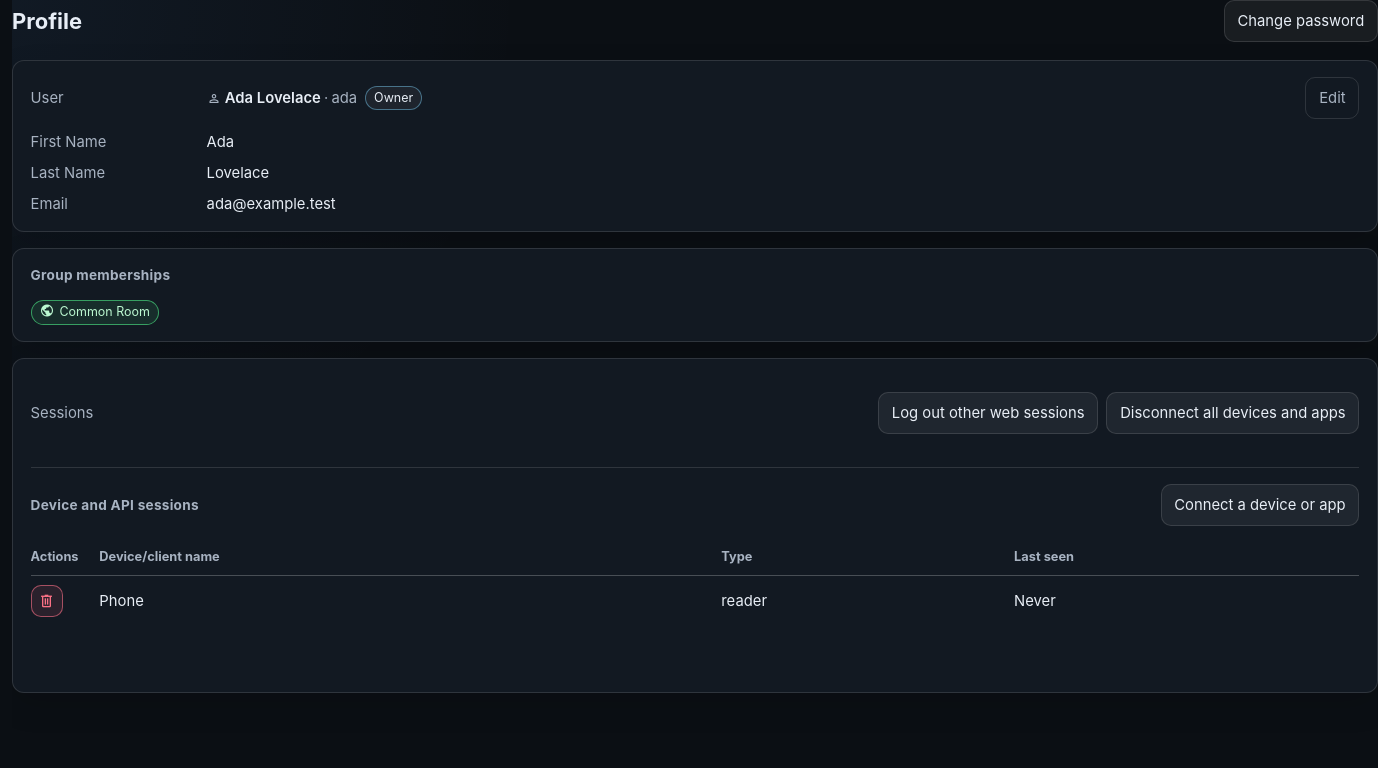
ProfileOrchestrator account sessions › leaves a device visible when its revoke request fails
Click the button named "Revoke Phone". click: (47,601)
box: [31, 585, 63, 617]
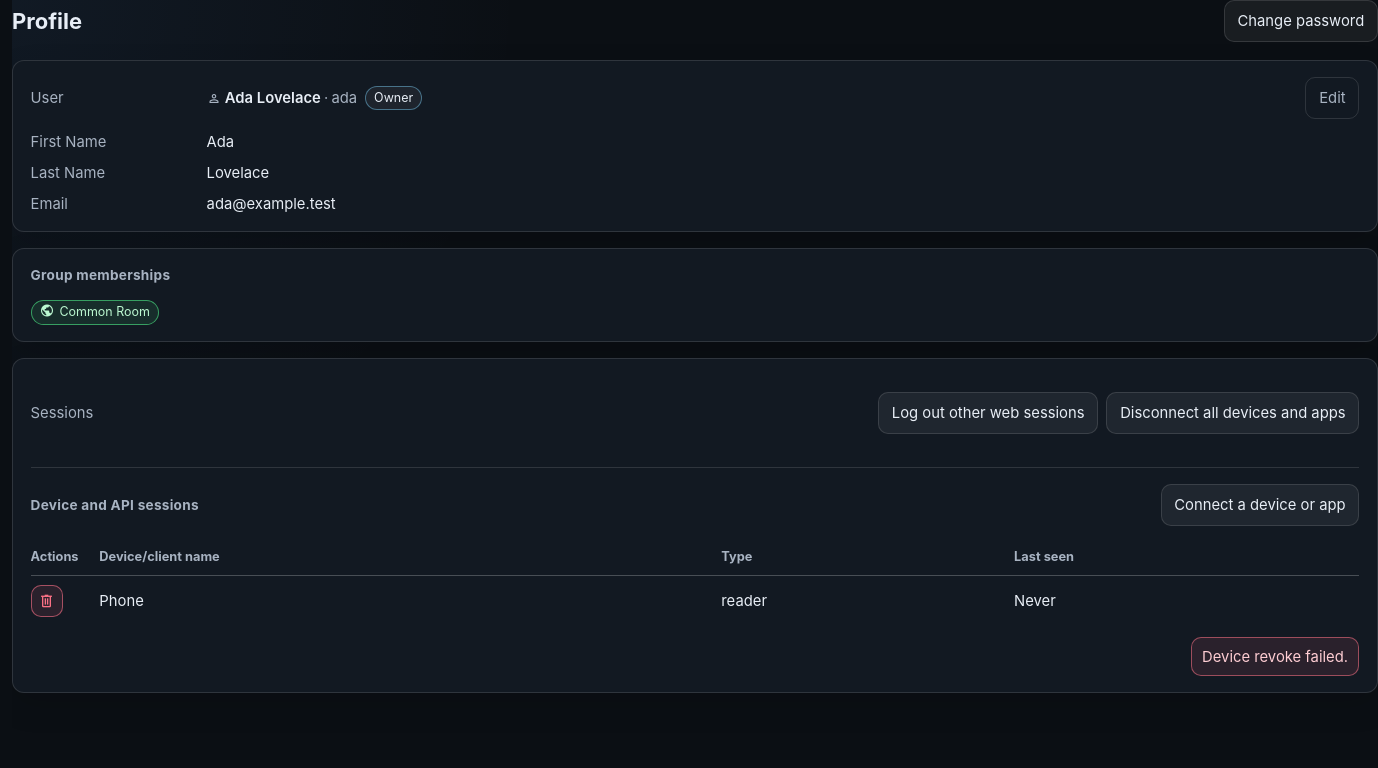
Check: the text "Phone" is shown, box [89, 575, 711, 626]
Check: the message "Device revoke failed." is shown, box [1191, 638, 1360, 676]
